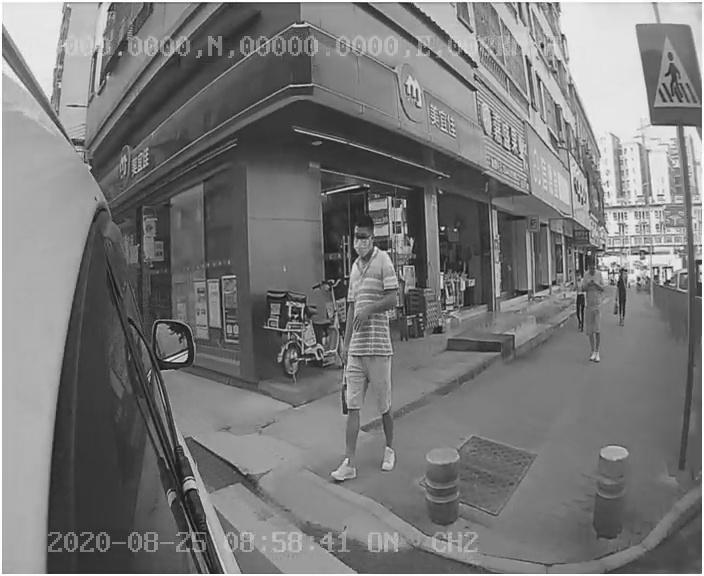person: (324, 211, 404, 483)
